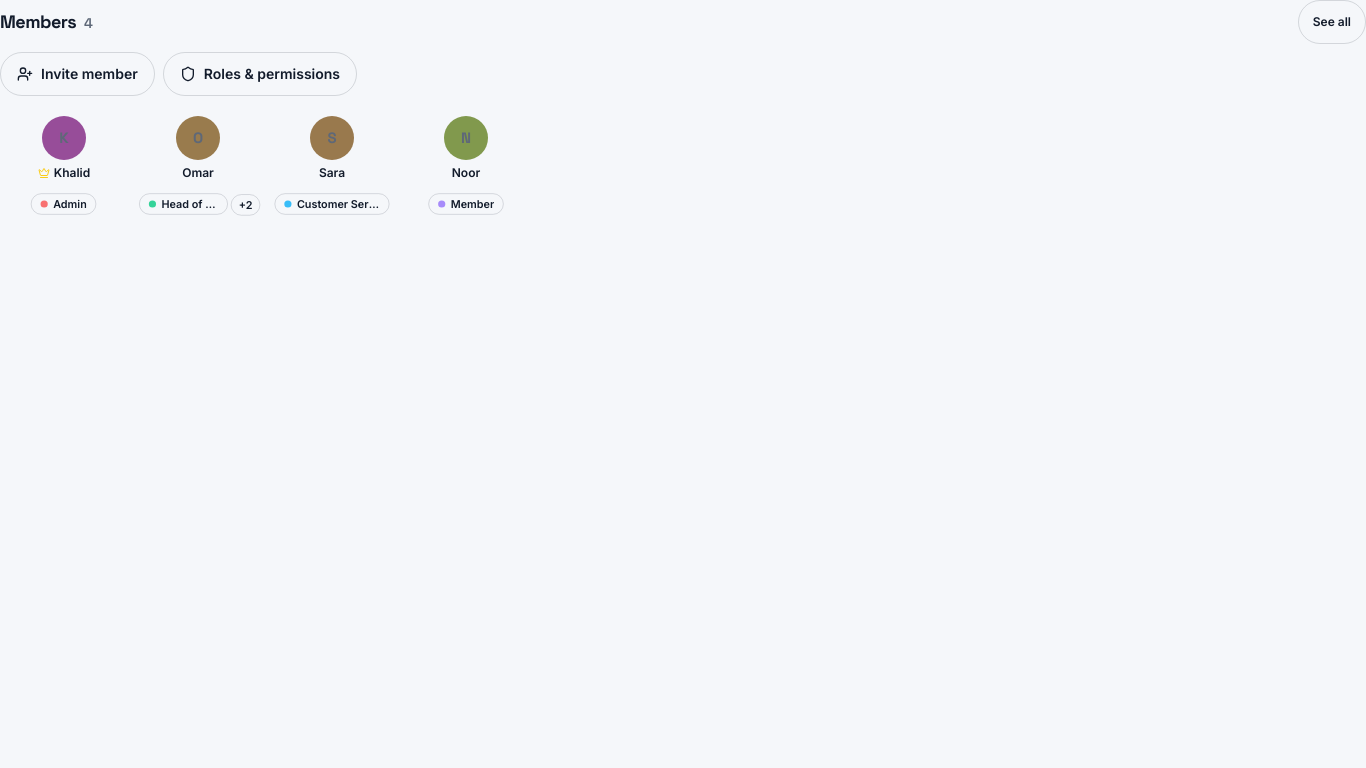
it: Members row › lists Owner first for the owner, as created the universe, then the roles they were given and Member
The image size is (1366, 768).
Click the button with aria-label "Khalid’s roles" at x=64, y=204, box x1=27 y1=182 x2=101 y2=226
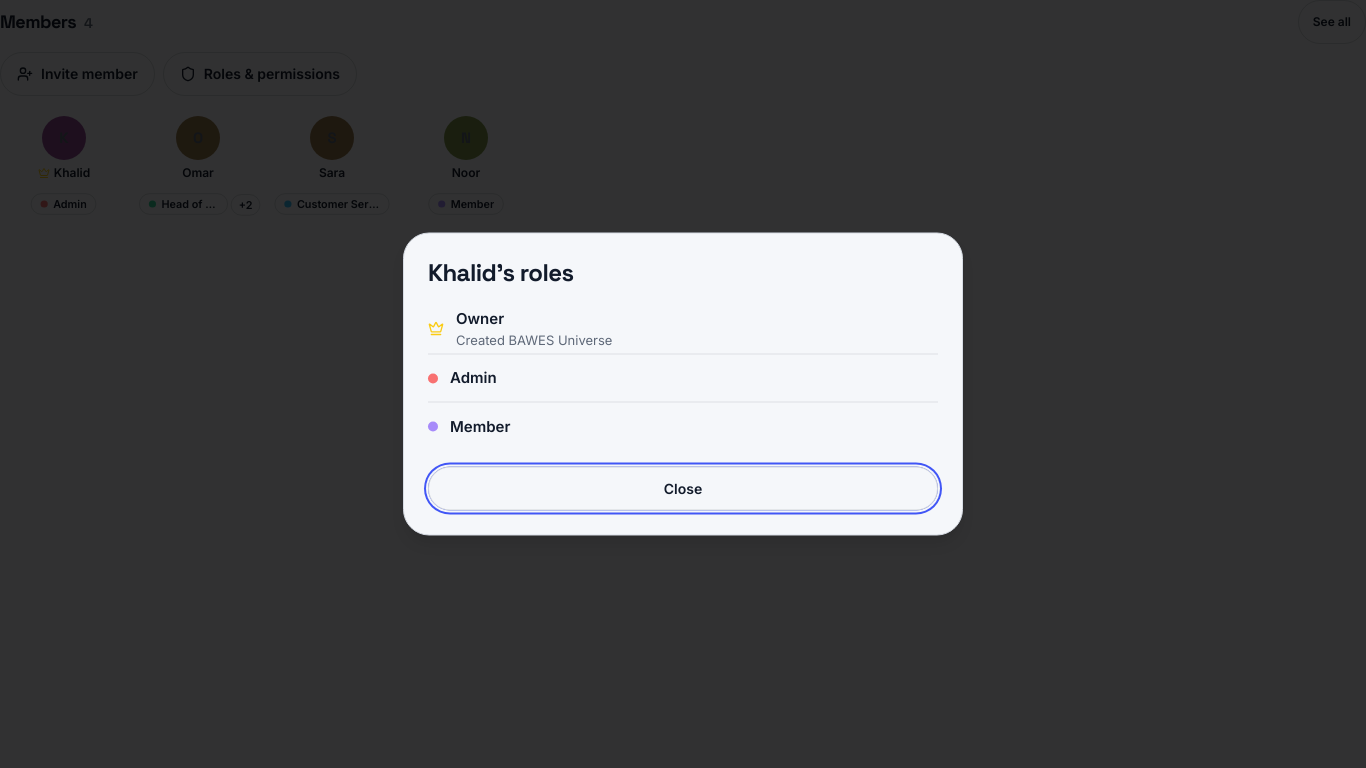
Check: the list items read "OwnerCreated BAWES Universe", "Admin", "Member", in this order, box x1=428 y1=304 x2=938 y2=354; x1=428 y1=354 x2=938 y2=402; x1=428 y1=416 x2=510 y2=435
